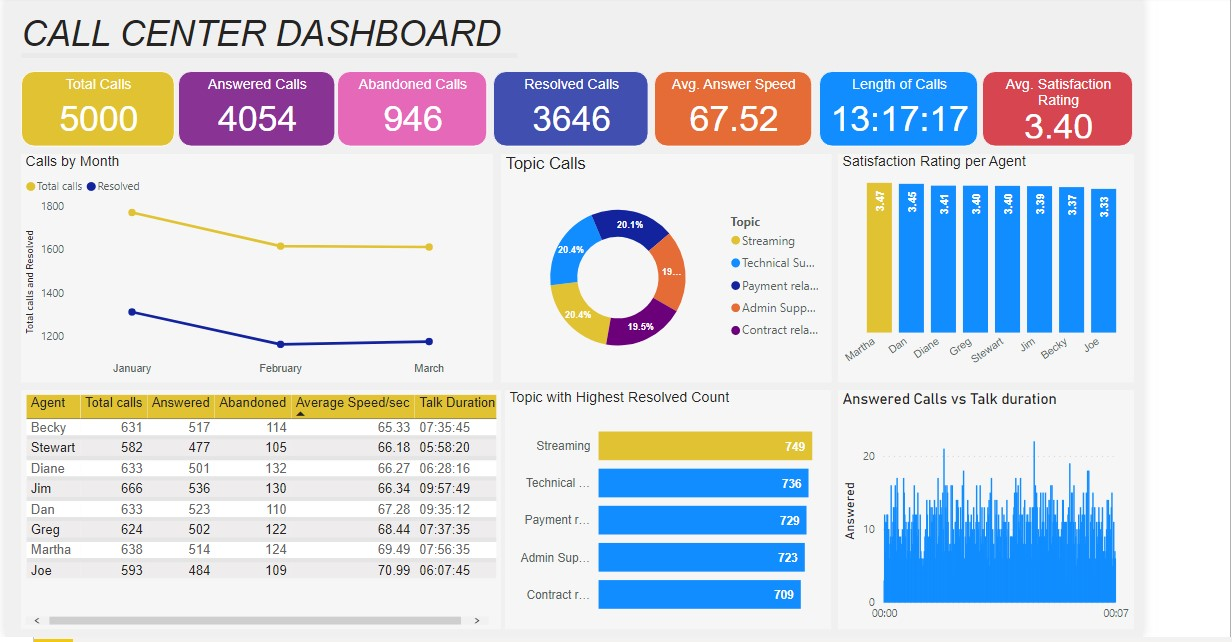

Layout of this report page (visuals, bound fields, positions):
{"tool":"powerbi","page":{"name":"Page 1","canvas":[1280,720],"ordinal":0},"visuals":[{"type":"card","title":"Resolved Calls","fields":{"Values":["All measures.Resolved"]},"box":[548.6,83.8,175.2,85.1],"z":0},{"type":"card","title":"Answered Calls","fields":{"Values":["All measures.Answered"]},"box":[194.3,83.8,176.5,85.1],"z":1000},{"type":"card","title":"Abandoned  Calls","fields":{"Values":["All measures.Abandoned"]},"box":[373.3,83.8,168.9,85.1],"z":2000},{"type":"card","title":"Avg. Answer Speed","fields":{"Values":["All measures.Avreage Speed"]},"box":[730.2,83.8,177.8,85.1],"z":3000},{"type":"card","title":"Length of Calls","fields":{"Values":["All measures.Lenght of Calls"]},"box":[915.6,83.8,179,85.1],"z":4000},{"type":"card","title":"Avg. Satisfaction Rating","fields":{"Values":["All measures.Average Satisfaction Rating"]},"box":[1099.7,83.8,170.2,85.1],"z":5000},{"type":"tableEx","fields":{"Values":["call center dataset.Agent","All measures.Total calls","All measures.Answered","All measures.Abandoned","All measures.Average Speed/sec","All measures.Lenght of Calls"]},"box":[17.8,441.9,539.7,269.2],"z":6000},{"type":"donutChart","title":"Topic Calls","fields":{"Category":["call center dataset.Topic"],"Y":["CountNonNull(call center dataset.Topic)"]},"box":[557.5,176.5,372.1,256.5],"z":7000},{"type":"shape","title":"CALL CENTER DASHBOARD","box":[17.8,19,558.7,49.5],"z":8000},{"type":"lineChart","title":"Calls by Month","fields":{"Category":["call center dataset.Date.Variation.Date Hierarchy.Month"],"Y":["All measures.Total calls","All measures.Resolved"]},"box":[17.8,176.5,530.8,256.5],"z":9000},{"type":"barChart","title":"Topic with Highest Resolved Count","fields":{"Category":["call center dataset.Topic"],"Y":["All measures.Resolved"]},"box":[562.5,441.9,367,269.2],"z":10000},{"type":"columnChart","title":"Satisfaction Rating per Agent","fields":{"Category":["call center dataset.Agent"],"Y":["All measures.Average Satisfaction Rating"]},"box":[937.1,176.5,332.7,256.5],"z":11000},{"type":"card","title":"Total Calls","fields":{"Values":["All measures.Total calls"]},"box":[17.8,83.8,172.7,85.1],"z":12000},{"type":"columnChart","title":"Answered Calls vs Talk duration","fields":{"Y":["All measures.Answered"],"Category":["call center dataset.Talk duration"]},"box":[937,442,333,269],"z":13000}]}

Visuals, with their boxes on the page's 1280x720 design canvas (x1, y1, x2, y2). These are canvas units, not pixel positions in the 1232x642 screenshot, which may show the page scaled, cropped or inside an application window:
"Resolved Calls" card: <region>549, 84, 724, 169</region>
"Answered Calls" card: <region>194, 84, 371, 169</region>
"Abandoned  Calls" card: <region>373, 84, 542, 169</region>
"Avg. Answer Speed" card: <region>730, 84, 908, 169</region>
"Length of Calls" card: <region>916, 84, 1095, 169</region>
"Avg. Satisfaction Rating" card: <region>1100, 84, 1270, 169</region>
tableEx - call center dataset.Agent x All measures.Total calls: <region>18, 442, 558, 711</region>
"Topic Calls" donutChart: <region>558, 176, 930, 433</region>
"CALL CENTER DASHBOARD" shape: <region>18, 19, 576, 68</region>
"Calls by Month" lineChart: <region>18, 176, 549, 433</region>
"Topic with Highest Resolved Count" barChart: <region>562, 442, 930, 711</region>
"Satisfaction Rating per Agent" columnChart: <region>937, 176, 1270, 433</region>
"Total Calls" card: <region>18, 84, 190, 169</region>
"Answered Calls vs Talk duration" columnChart: <region>937, 442, 1270, 711</region>
